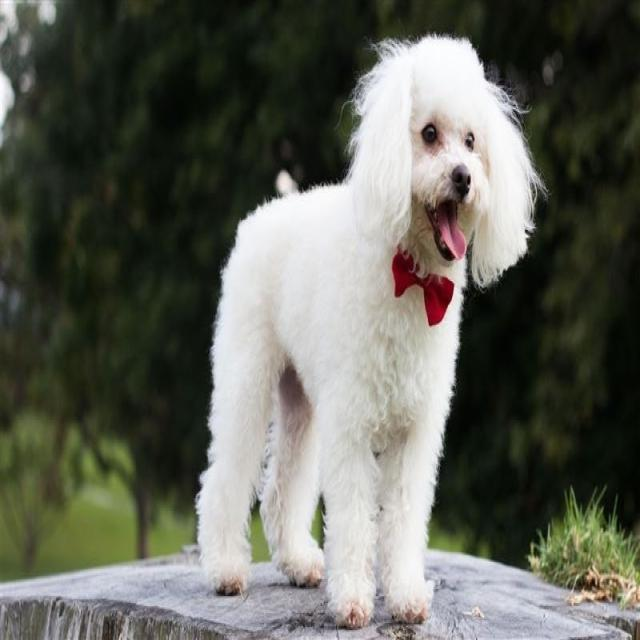adult_dog: (197, 31, 540, 629)
